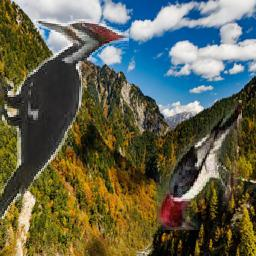Woodpecker: (0, 19, 129, 219), (156, 100, 242, 230)
